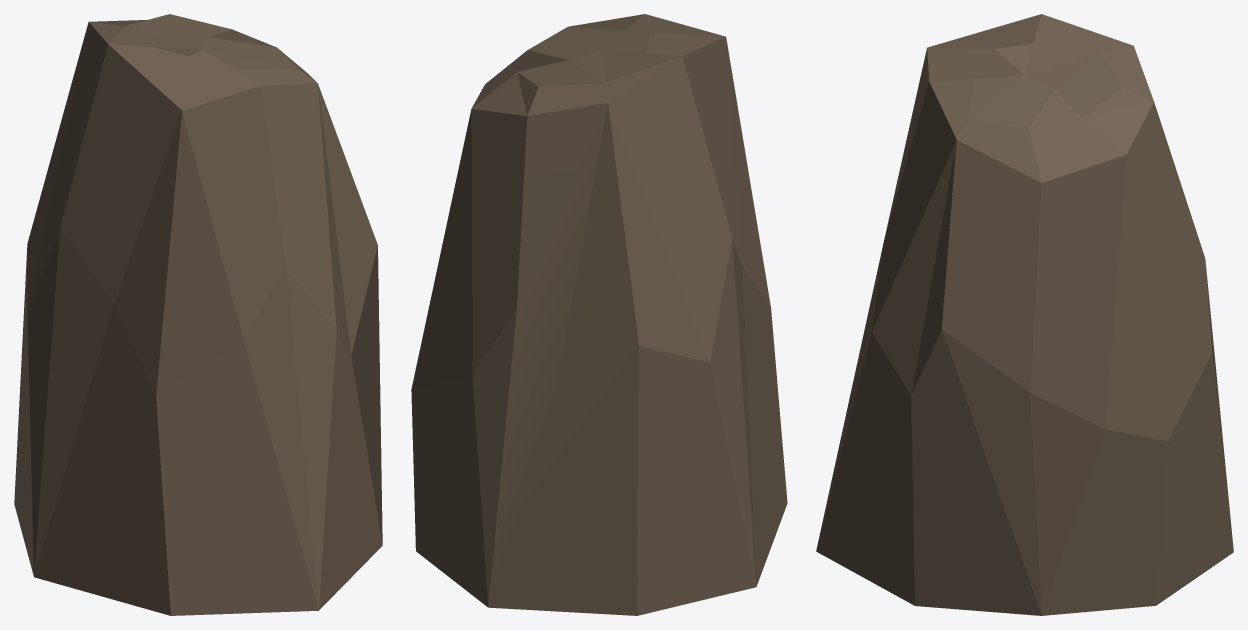
The model's file is Rock_L.fbx.
The picture shows the model from 3 angles, left to right: view 1: azimuth 30°, elevation 25°; view 2: azimuth 150°, elevation 25°; view 3: azimuth 270°, elevation 25°; orthographic projection. The views are drawn at different scales.
Visible parts, largest first — view 1: Rock_L; view 2: Rock_L; view 3: Rock_L.
Part boxes in pixels (x1,y1,x2,y2): Rock_L: (14,14,382,615); Rock_L: (411,14,787,615); Rock_L: (816,14,1233,615).
Bounding box in the file's own units: 1494 × 2415 × 1821.
